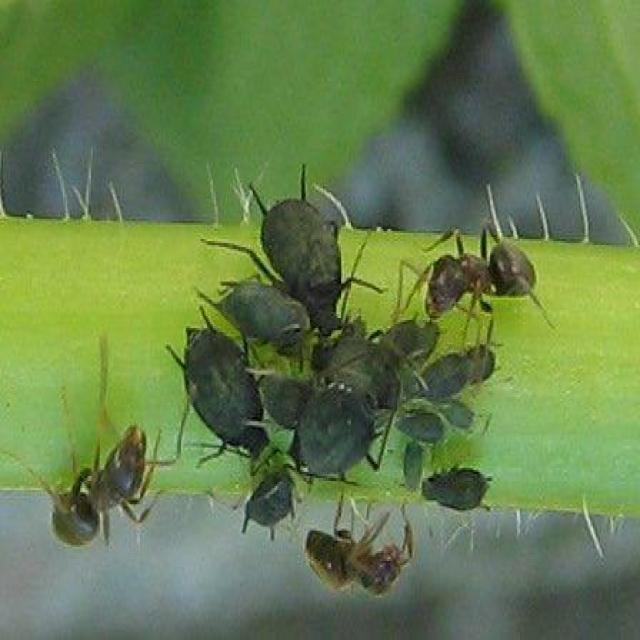Aphids: (41, 404, 192, 584), (417, 200, 582, 350), (257, 157, 360, 331), (267, 378, 404, 499)
